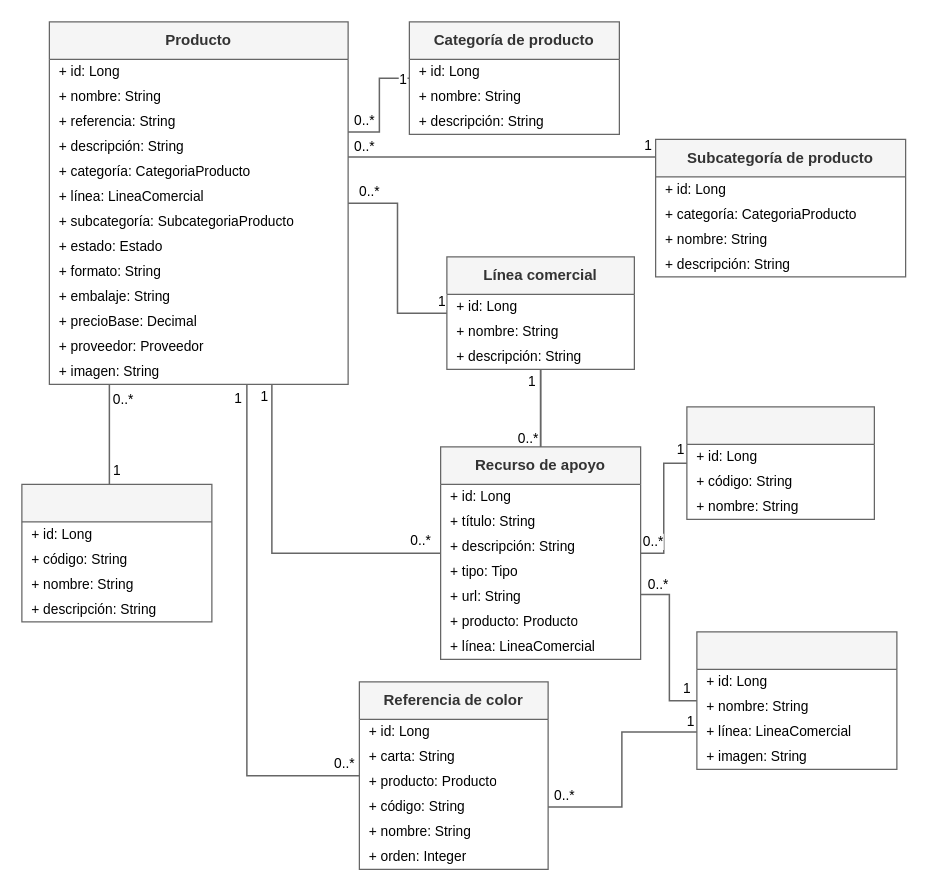
Some shapes in this 928 by 891 pixel diagram are drawn without their labels. The box of each missing label's shape, as (x1, y1, x2, y2) in pixels:
Carta de color: (696, 631, 897, 769)
Estado de producto: (21, 483, 212, 622)
Tipo de recurso: (686, 406, 874, 519)
